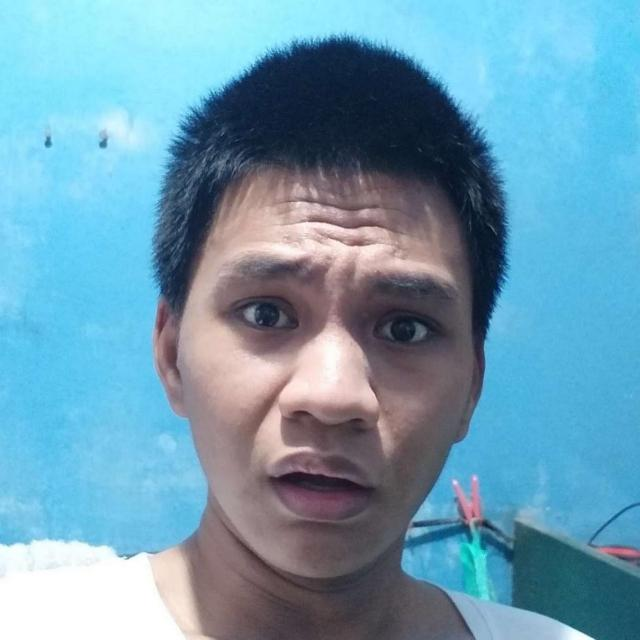Surprised: (142, 78, 499, 585)
